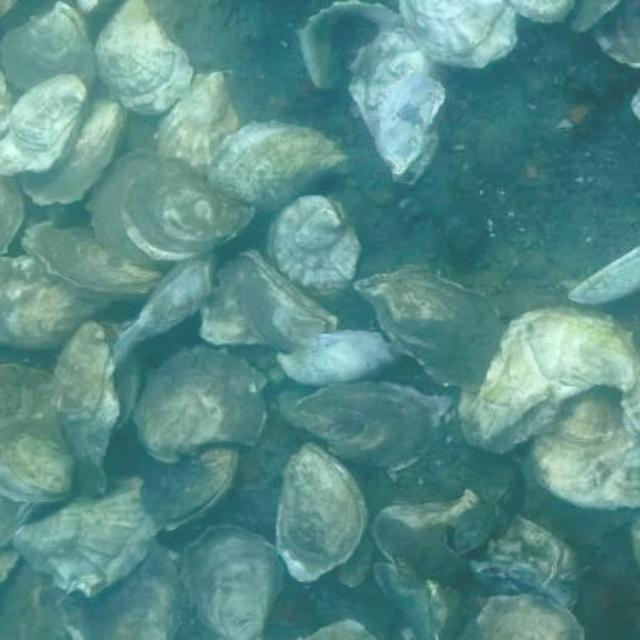Oyster-Closed: (457, 306, 640, 454), (86, 148, 255, 270), (357, 268, 506, 391), (14, 476, 162, 596), (349, 28, 449, 185), (134, 346, 269, 462), (200, 249, 338, 353), (296, 380, 451, 470), (531, 388, 640, 512), (275, 445, 367, 584), (207, 123, 354, 209), (112, 249, 218, 366), (62, 539, 183, 640), (180, 525, 286, 640), (18, 100, 129, 205), (22, 219, 164, 297), (0, 255, 117, 349), (95, 0, 192, 113), (469, 514, 582, 609), (57, 321, 119, 494), (263, 195, 362, 298), (375, 491, 480, 584), (158, 70, 238, 177), (1, 3, 96, 93), (142, 443, 240, 529), (398, 0, 517, 69), (0, 95, 91, 178), (277, 331, 400, 387), (0, 556, 67, 640), (12, 76, 88, 150), (0, 365, 67, 446), (54, 320, 108, 418), (479, 594, 585, 640), (376, 564, 436, 639), (570, 245, 640, 302), (558, 385, 621, 443), (592, 0, 640, 68), (428, 580, 468, 640), (337, 523, 372, 586), (0, 175, 24, 256), (298, 207, 342, 250), (0, 496, 36, 545), (571, 0, 621, 31), (512, 0, 575, 24), (623, 374, 640, 428), (0, 72, 12, 139), (0, 546, 18, 584)
Oyster-Open: (0, 433, 76, 503)
